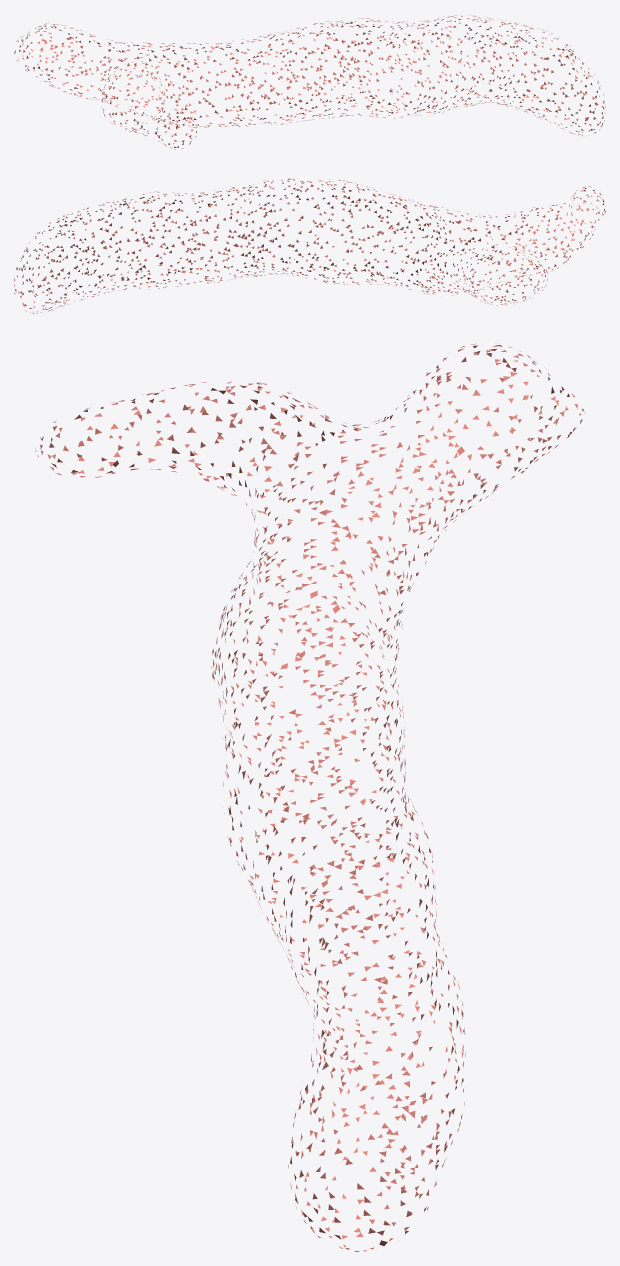
File: morph_001.glb
3 renders of one model, top to bottom at view 1: azimuth 30°, elevation 25°; view 2: azimuth 150°, elevation 25°; view 3: azimuth 270°, elevation 25°, orthographic. The views are drawn at different scales.
Bounding box in the file's own units: 123 × 43.49 × 53.4.
